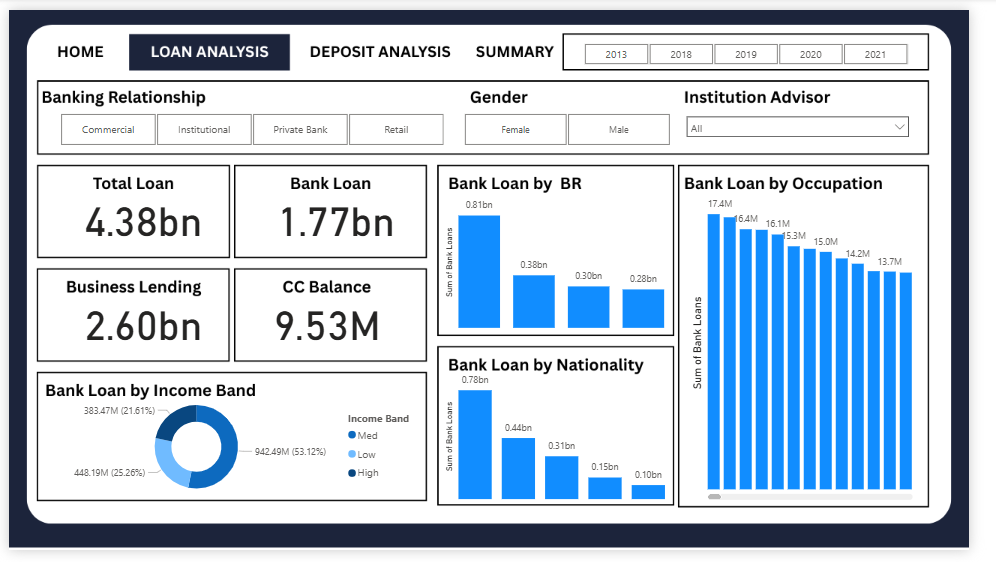

What the dashboard file says about the page in this screenshot:
{"tool":"powerbi","page":{"name":"Loan Analysis","canvas":[1280,720],"ordinal":1},"visuals":[{"type":"slicer","fields":{"Values":["banking_case customer.Year of Joining"]},"box":[741.7,38.3,480,38.3],"z":0},{"type":"actionButton","box":[43.3,36.7,110,40],"z":1},{"type":"actionButton","box":[376.7,36.7,238.3,40],"z":2},{"type":"actionButton","box":[603.3,36.7,138.3,40],"z":3},{"type":"card","fields":{"Values":["banking_case customer.Total Loan"]},"box":[0,235,358.3,81.7],"z":4},{"type":"card","fields":{"Values":["Sum(banking_case customer.Bank Loans)"]},"box":[256.7,235,358.3,81.7],"z":5},{"type":"card","fields":{"Values":["Sum(banking_case customer.Business Lending)"]},"box":[0,373.3,358.3,81.7],"z":6},{"type":"card","fields":{"Values":["Sum(banking_case customer.Credit Card Balance)"]},"box":[245,373.3,358.3,81.7],"z":7},{"type":"donutChart","fields":{"Category":["banking_case customer.Income Band"],"Y":["Sum(banking_case customer.Bank Loans)"]},"box":[43.3,506.7,513.3,151.7],"z":8}]}

Visuals, with their boxes in screenshot pixels (x1, y1, x2, y2), scaled from the page's 1280x720 canvas onto the 996x562 screenshot:
slicer - banking_case customer.Year of Joining: left=577, top=30, right=951, bottom=60
actionButton: left=34, top=29, right=119, bottom=60
actionButton: left=293, top=29, right=479, bottom=60
actionButton: left=469, top=29, right=577, bottom=60
card - banking_case customer.Total Loan: left=0, top=183, right=279, bottom=247
card - Sum(banking_case customer.Bank Loans): left=200, top=183, right=479, bottom=247
card - Sum(banking_case customer.Business Lending): left=0, top=291, right=279, bottom=355
card - Sum(banking_case customer.Credit Card Balance): left=191, top=291, right=469, bottom=355
donutChart - banking_case customer.Income Band x Sum(banking_case customer.Bank Loans): left=34, top=396, right=433, bottom=514
